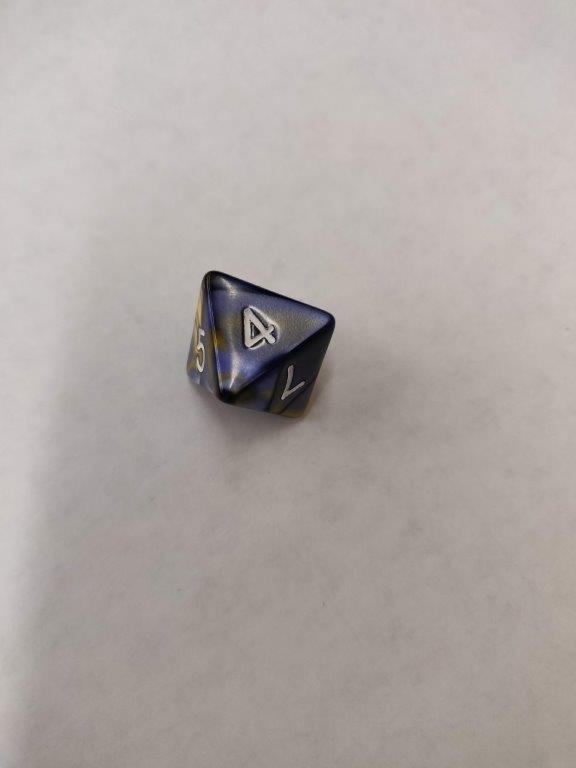d8-4: (185, 270, 336, 425)
